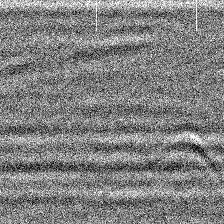Utility: (161, 131, 221, 174)
